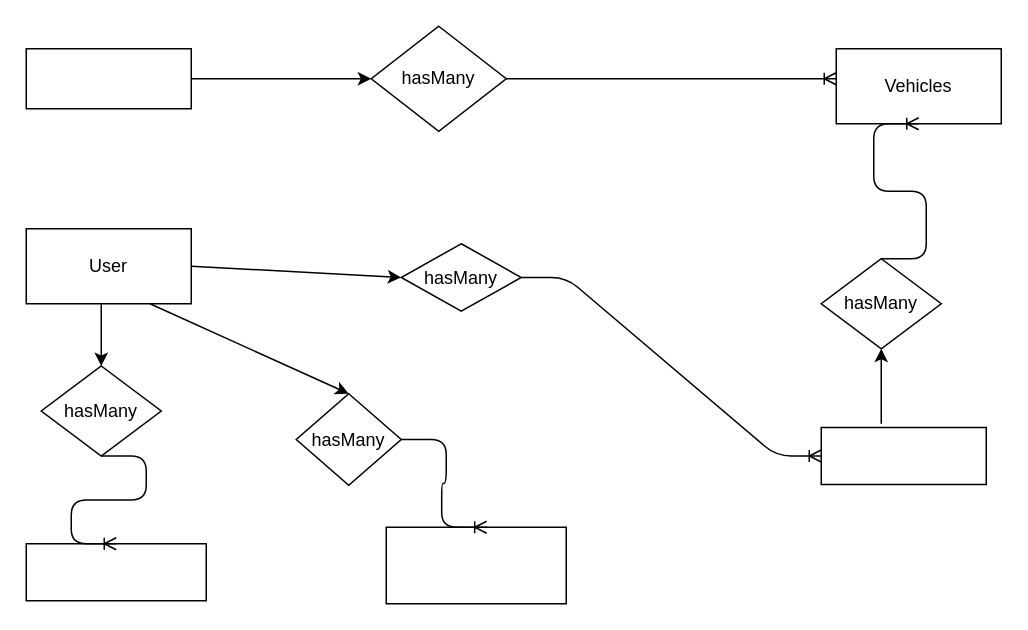
The diagram is 1028 pixels wide and 630 high, and some of its shapes have lost their labels. The box of each missing label's shape, as (x1, y1, x2, y2) in pixels:
Bokings: (820, 426, 986, 484)
Brand: (25, 47, 191, 109)
offers: (385, 526, 566, 604)
testimonials: (25, 542, 206, 601)
